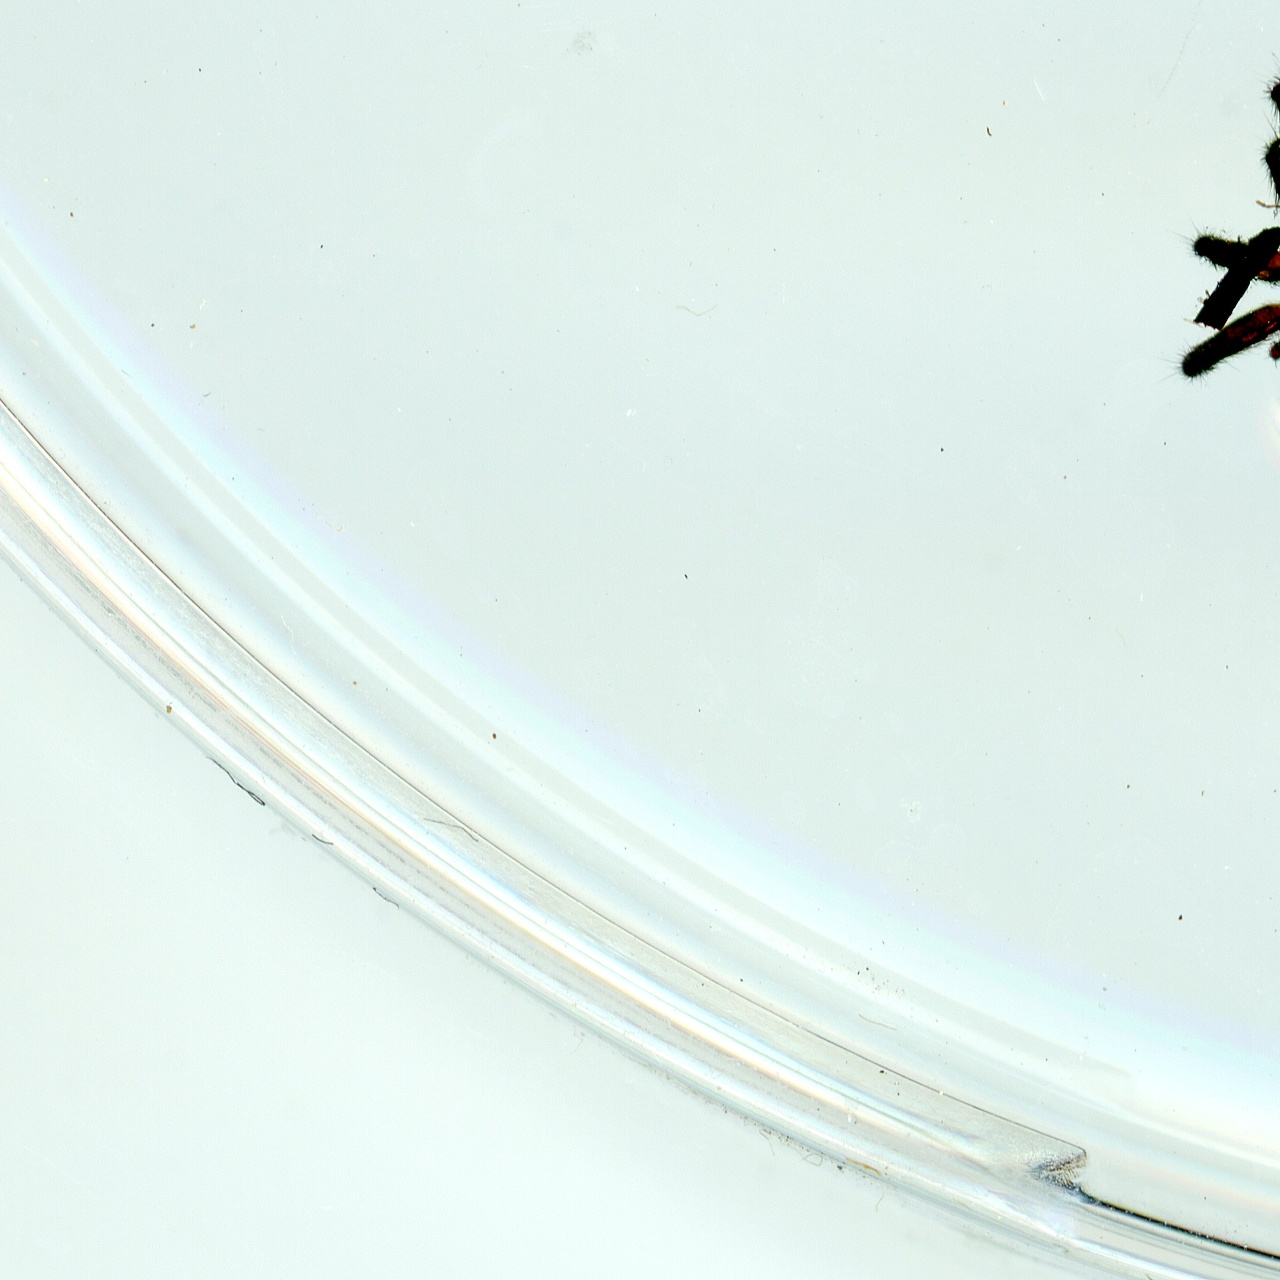arthropod: (1175, 57, 1280, 502)
